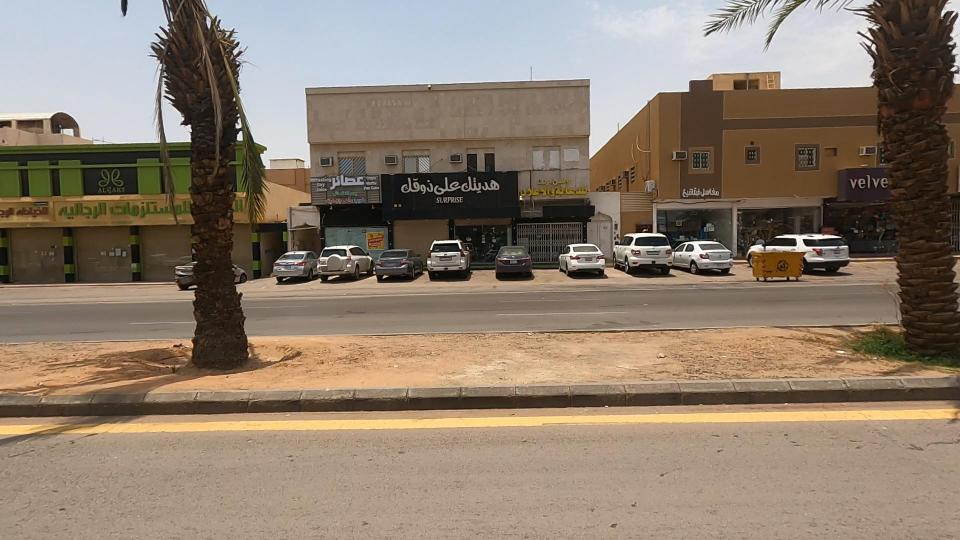CLUTTER_SIDEWALK: (234, 266, 757, 432)
